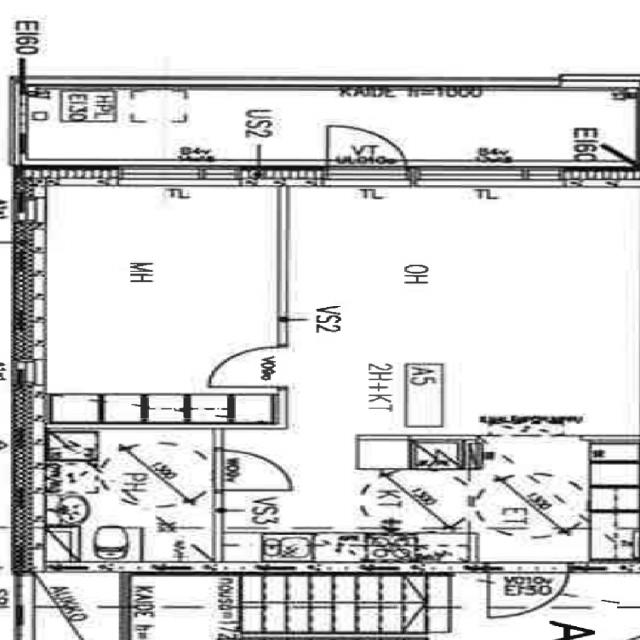door: (327, 119, 408, 186), (488, 562, 570, 620), (212, 450, 294, 490), (208, 347, 286, 386)
